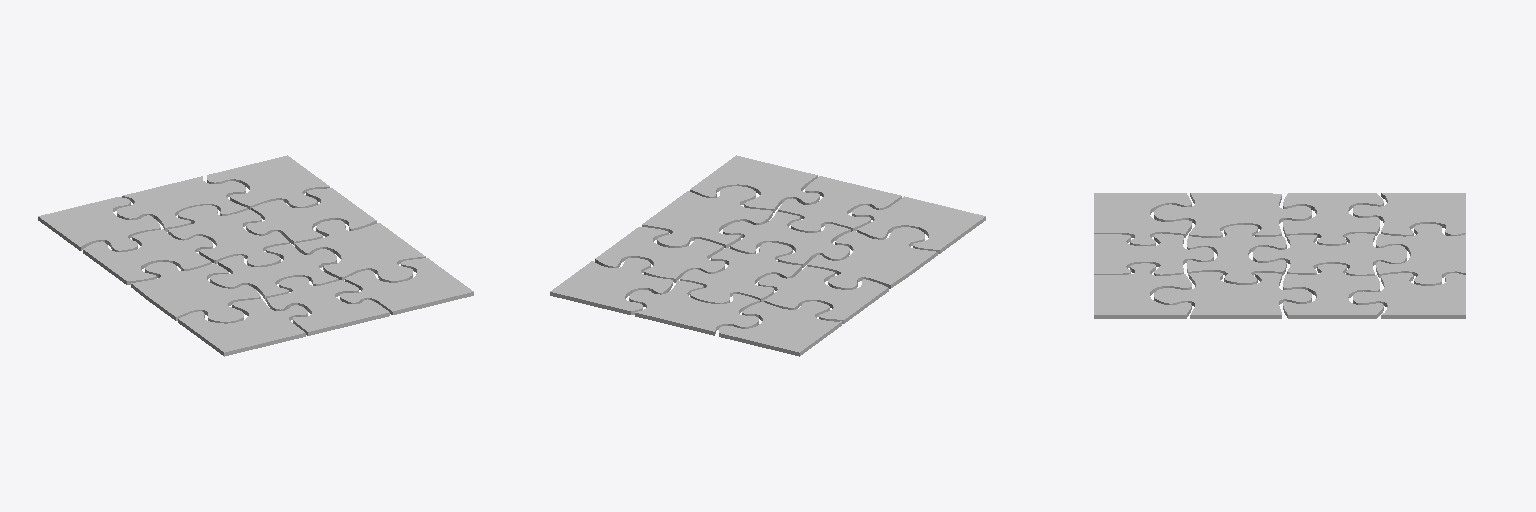
Rendered from JigsawPuzzle.obj.
The picture shows the model from 3 angles: view 1: azimuth 30°, elevation 25°; view 2: azimuth 150°, elevation 25°; view 3: azimuth 270°, elevation 25°; orthographic projection.
Visible parts, largest first — view 1: PuzzlePiece1 JigsawPuzzle_GRP, JigsawPuzzle_GRP PuzzlePiece2, JigsawPuzzle_GRP PuzzlePiece3, JigsawPuzzle_GRP PuzzlePiece4, JigsawPuzzle_GRP PuzzlePiece7, JigsawPuzzle_GRP PuzzlePiece5, JigsawPuzzle_GRP PuzzlePiece10, JigsawPuzzle_GRP PuzzlePiece12, JigsawPuzzle_GRP PuzzlePiece9, JigsawPuzzle_GRP PuzzlePiece8, JigsawPuzzle_GRP PuzzlePiece11, JigsawPuzzle_GRP PuzzlePiece6; view 2: JigsawPuzzle_GRP PuzzlePiece2, PuzzlePiece1 JigsawPuzzle_GRP, JigsawPuzzle_GRP PuzzlePiece7, JigsawPuzzle_GRP PuzzlePiece3, JigsawPuzzle_GRP PuzzlePiece10, JigsawPuzzle_GRP PuzzlePiece9, JigsawPuzzle_GRP PuzzlePiece8, JigsawPuzzle_GRP PuzzlePiece4, JigsawPuzzle_GRP PuzzlePiece12, JigsawPuzzle_GRP PuzzlePiece11, JigsawPuzzle_GRP PuzzlePiece5, JigsawPuzzle_GRP PuzzlePiece6; view 3: PuzzlePiece1 JigsawPuzzle_GRP, JigsawPuzzle_GRP PuzzlePiece2, JigsawPuzzle_GRP PuzzlePiece4, JigsawPuzzle_GRP PuzzlePiece7, JigsawPuzzle_GRP PuzzlePiece11, JigsawPuzzle_GRP PuzzlePiece8, JigsawPuzzle_GRP PuzzlePiece3, JigsawPuzzle_GRP PuzzlePiece12, JigsawPuzzle_GRP PuzzlePiece10, JigsawPuzzle_GRP PuzzlePiece9, JigsawPuzzle_GRP PuzzlePiece5, JigsawPuzzle_GRP PuzzlePiece6.
Part boxes in pixels (left/top/right/bottom): PuzzlePiece1 JigsawPuzzle_GRP: left=295, top=220, right=425, bottom=282; JigsawPuzzle_GRP PuzzlePiece2: left=131, top=262, right=260, bottom=323; JigsawPuzzle_GRP PuzzlePiece3: left=178, top=299, right=307, bottom=356; JigsawPuzzle_GRP PuzzlePiece4: left=340, top=258, right=473, bottom=314; JigsawPuzzle_GRP PuzzlePiece7: left=168, top=205, right=289, bottom=266; JigsawPuzzle_GRP PuzzlePiece5: left=266, top=277, right=389, bottom=335; JigsawPuzzle_GRP PuzzlePiece10: left=38, top=197, right=160, bottom=251; JigsawPuzzle_GRP PuzzlePiece12: left=83, top=229, right=212, bottom=284; JigsawPuzzle_GRP PuzzlePiece9: left=117, top=176, right=247, bottom=231; JigsawPuzzle_GRP PuzzlePiece8: left=207, top=155, right=329, bottom=209; JigsawPuzzle_GRP PuzzlePiece11: left=246, top=188, right=376, bottom=245; JigsawPuzzle_GRP PuzzlePiece6: left=210, top=244, right=338, bottom=300; JigsawPuzzle_GRP PuzzlePiece2: left=807, top=227, right=937, bottom=289; PuzzlePiece1 JigsawPuzzle_GRP: left=642, top=186, right=772, bottom=247; JigsawPuzzle_GRP PuzzlePiece7: left=680, top=242, right=801, bottom=303; JigsawPuzzle_GRP PuzzlePiece3: left=852, top=196, right=985, bottom=253; JigsawPuzzle_GRP PuzzlePiece10: left=719, top=301, right=841, bottom=356; JigsawPuzzle_GRP PuzzlePiece9: left=629, top=280, right=759, bottom=335; JigsawPuzzle_GRP PuzzlePiece8: left=550, top=258, right=672, bottom=314; JigsawPuzzle_GRP PuzzlePiece4: left=690, top=155, right=819, bottom=212; JigsawPuzzle_GRP PuzzlePiece12: left=758, top=266, right=888, bottom=323; JigsawPuzzle_GRP PuzzlePiece11: left=595, top=227, right=724, bottom=282; JigsawPuzzle_GRP PuzzlePiece5: left=778, top=176, right=901, bottom=232; JigsawPuzzle_GRP PuzzlePiece6: left=723, top=211, right=850, bottom=267; PuzzlePiece1 JigsawPuzzle_GRP: left=1154, top=272, right=1311, bottom=318; JigsawPuzzle_GRP PuzzlePiece2: left=1154, top=193, right=1311, bottom=237; JigsawPuzzle_GRP PuzzlePiece4: left=1094, top=263, right=1191, bottom=318; JigsawPuzzle_GRP PuzzlePiece7: left=1253, top=233, right=1406, bottom=275; JigsawPuzzle_GRP PuzzlePiece11: left=1283, top=264, right=1383, bottom=318; JigsawPuzzle_GRP PuzzlePiece8: left=1353, top=273, right=1465, bottom=318; JigsawPuzzle_GRP PuzzlePiece3: left=1094, top=193, right=1191, bottom=245; JigsawPuzzle_GRP PuzzlePiece12: left=1283, top=193, right=1383, bottom=245; JigsawPuzzle_GRP PuzzlePiece10: left=1353, top=193, right=1465, bottom=236; JigsawPuzzle_GRP PuzzlePiece9: left=1376, top=224, right=1465, bottom=285; JigsawPuzzle_GRP PuzzlePiece5: left=1094, top=233, right=1213, bottom=275; JigsawPuzzle_GRP PuzzlePiece6: left=1187, top=225, right=1286, bottom=284.
Size of the model in its own units: 49.47 by 0.7505 by 63.95.